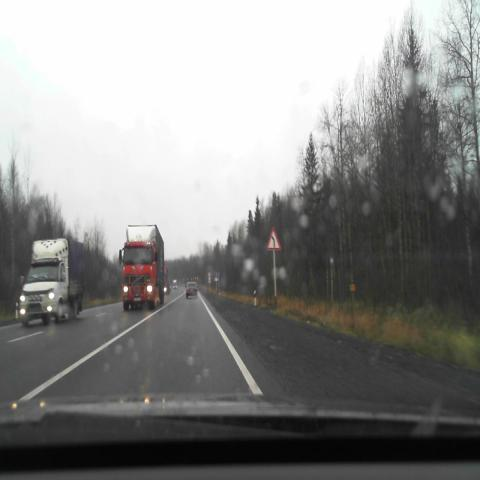1_11_1: (266, 227, 282, 250)
